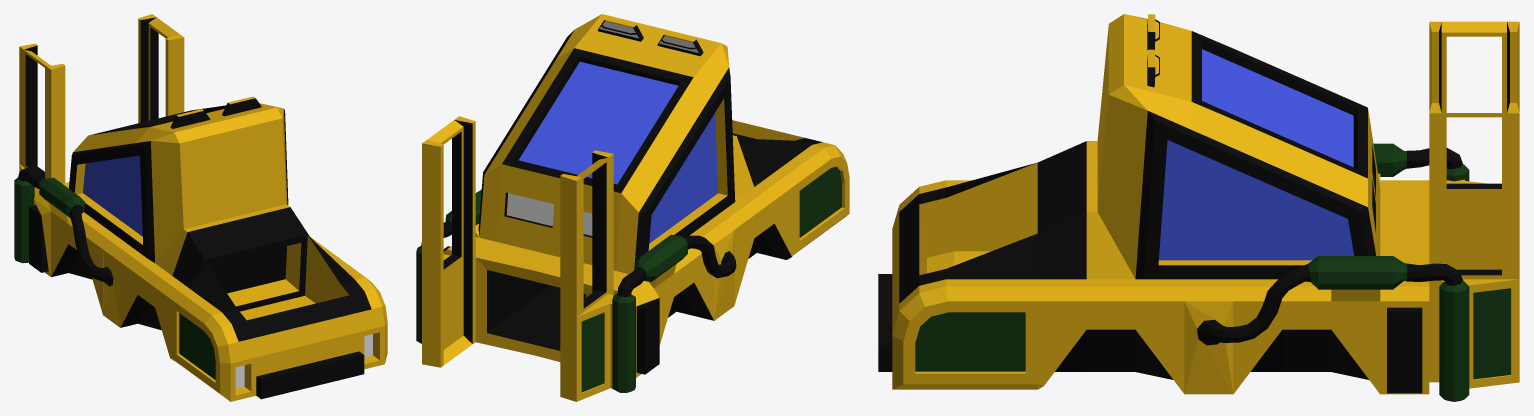
The model's file is Ammo Car v.1.3.chasis fbx.fbx.
3 renders of one model, left to right at view 1: azimuth 30°, elevation 25°; view 2: azimuth 150°, elevation 25°; view 3: azimuth 270°, elevation 25°, orthographic. The views are drawn at different scales.
Visible parts, largest first — view 1: AMMO CAR; view 2: AMMO CAR; view 3: AMMO CAR.
Part boxes in pixels (box(x1,y1,x2,y2)): AMMO CAR: box(14, 14, 387, 401); AMMO CAR: box(416, 14, 849, 401); AMMO CAR: box(878, 14, 1519, 401).
Size of the model in its own units: 689 by 696 by 1354.
